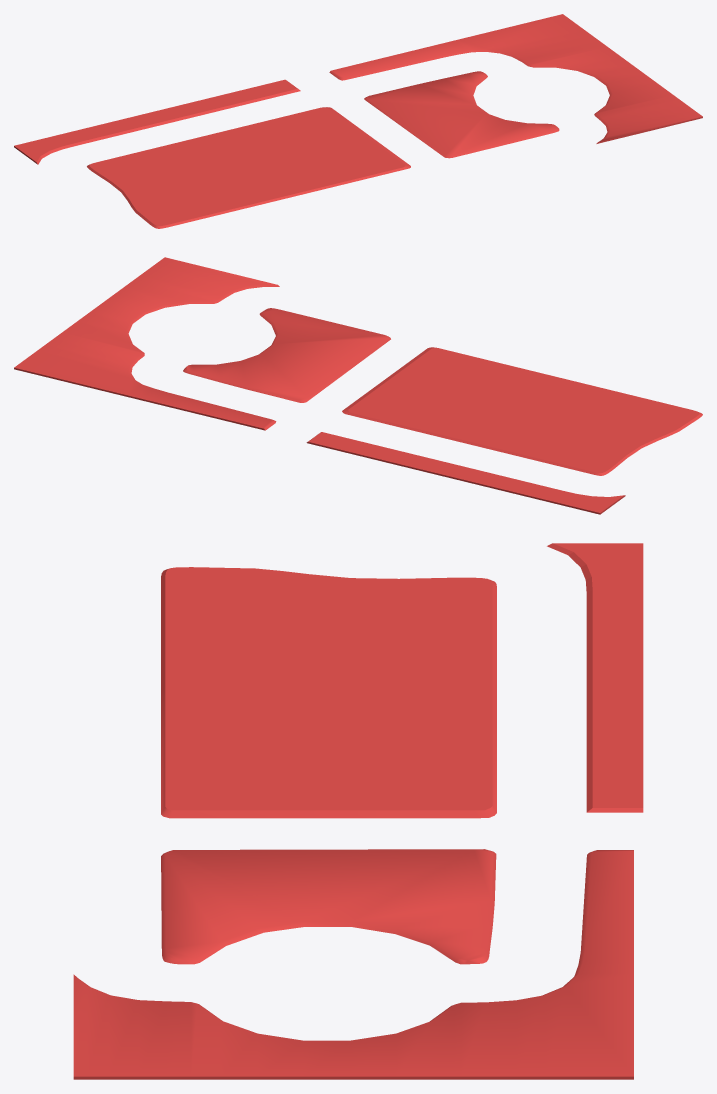
The model's file is PavementCollider.fbx.
3 renders of one model, top to bottom at view 1: azimuth 30°, elevation 25°; view 2: azimuth 150°, elevation 25°; view 3: azimuth 270°, elevation 25°, orthographic. The views are drawn at different scales.
Parts seen in each view (by area): view 1: Walkway_01.001; view 2: Walkway_01.001; view 3: Walkway_01.001.
Part boxes in pixels (x1,y1,x2,y2): Walkway_01.001: (14,14,702,228); Walkway_01.001: (14,257,702,514); Walkway_01.001: (73,543,643,1079).
Bounding box in the file's own units: 3788 × 10.12 × 1709.
